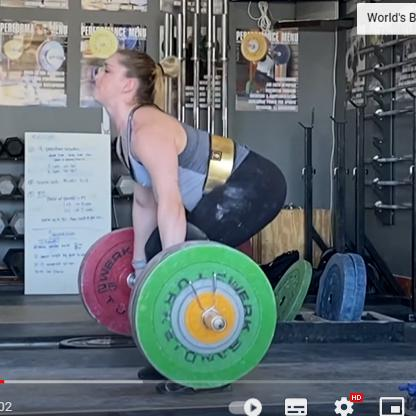Barbell: (124, 236, 284, 394)
